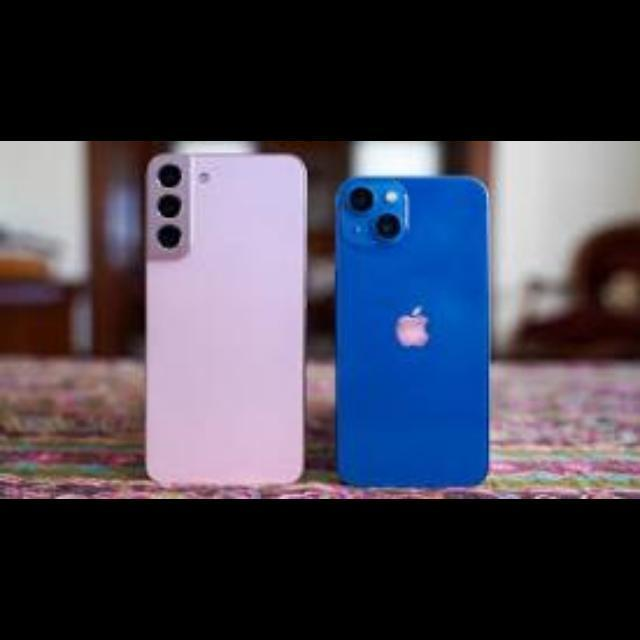phone: (308, 156, 496, 492), (136, 146, 310, 491)
